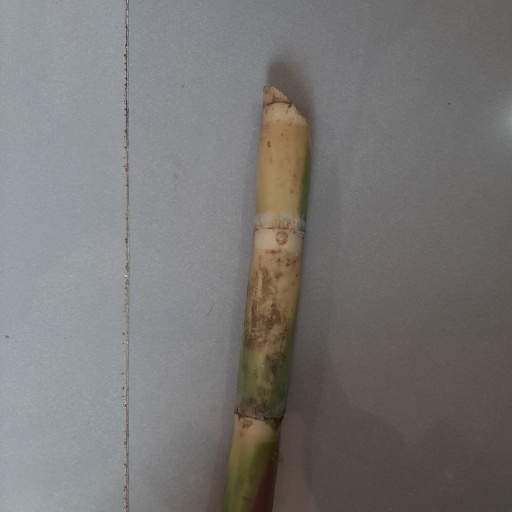Bud: (273, 231, 288, 246)
